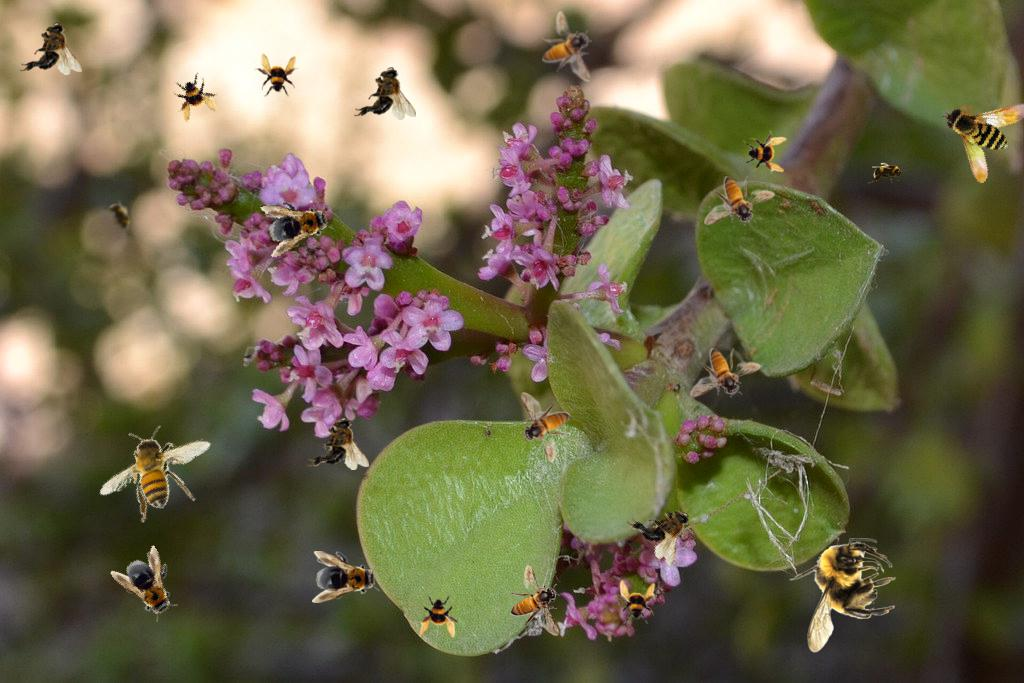Bee: (86, 398, 231, 544), (789, 538, 896, 653), (939, 78, 1024, 188), (109, 543, 191, 629), (623, 487, 706, 569), (258, 190, 338, 258), (166, 67, 226, 127), (690, 348, 761, 398), (704, 176, 775, 226), (510, 565, 560, 636), (520, 392, 570, 463), (542, 11, 592, 82), (312, 551, 380, 603), (20, 22, 82, 75), (307, 417, 369, 470), (354, 67, 416, 120), (254, 53, 298, 97), (418, 594, 462, 638), (743, 130, 787, 174), (613, 580, 657, 624), (101, 194, 139, 240), (868, 162, 908, 184)
